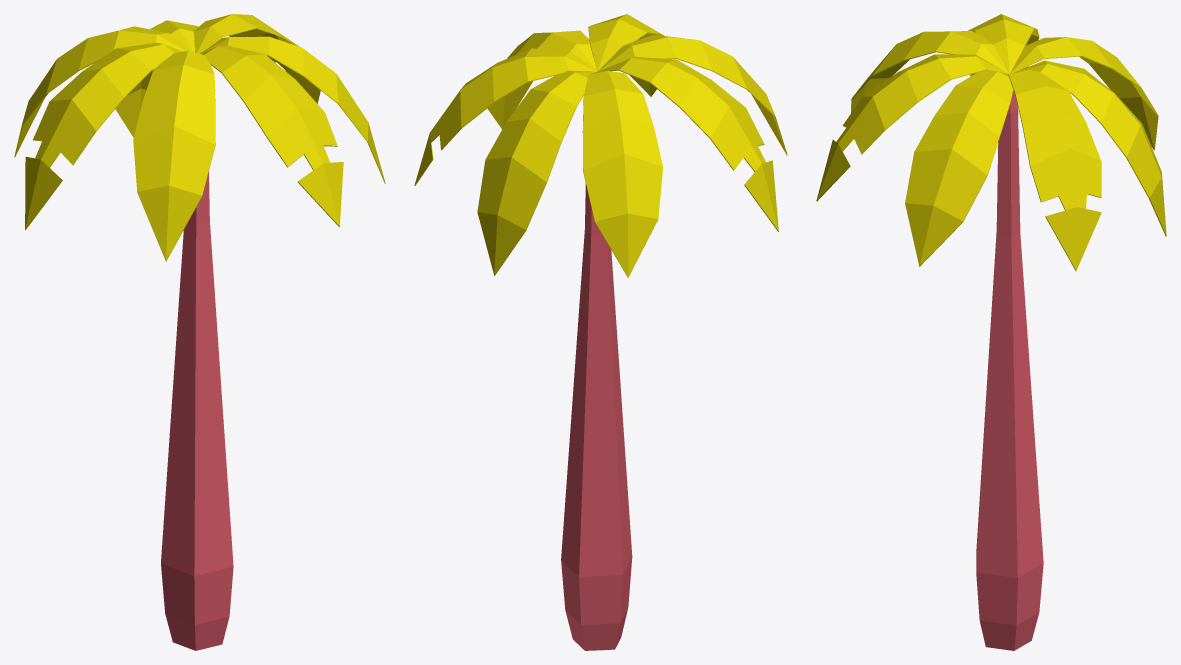
Rendered from tree-palm.fbx.
The picture shows the model from 3 angles, left to right: view 1: azimuth 30°, elevation 25°; view 2: azimuth 150°, elevation 25°; view 3: azimuth 270°, elevation 25°; orthographic projection. The views are drawn at different scales.
Visible parts, largest first — view 1: tree-palm; view 2: tree-palm; view 3: tree-palm.
Part boxes in pixels (x1=…): tree-palm: x1=14, y1=14, x2=385, y2=650; tree-palm: x1=414, y1=14, x2=787, y2=650; tree-palm: x1=816, y1=14, x2=1166, y2=650.
Bounding box in the file's own units: 3.57 × 6.27 × 3.38.
